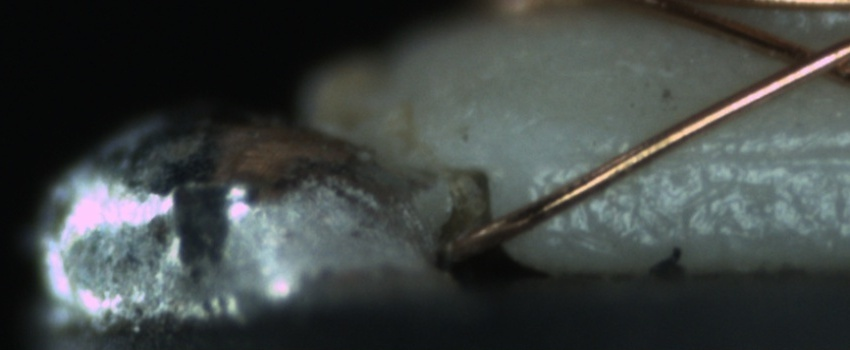CL: (760, 30, 849, 90)
DL: (557, 126, 849, 186)
